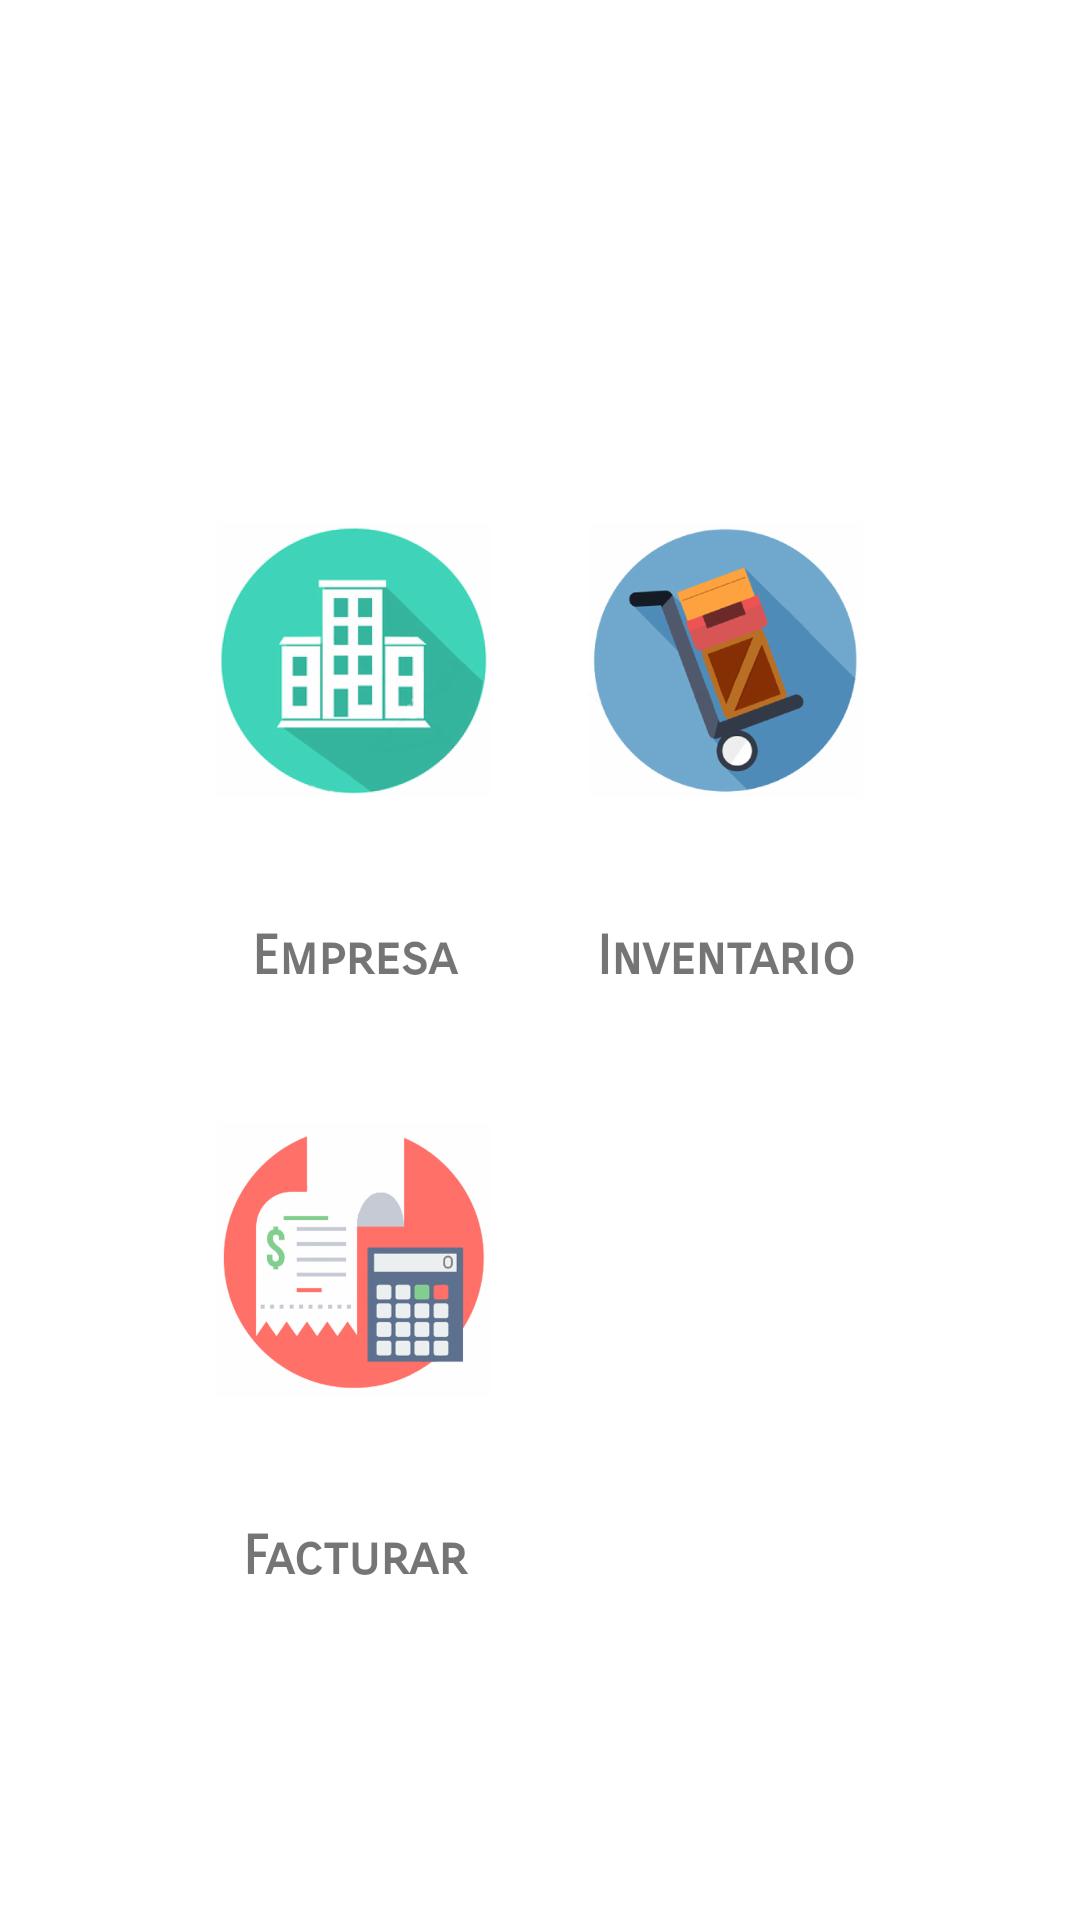

Named icons in this screenshot (1080*1920) and their bounding boxes, (x1, y1, x2, y2):
company: (221, 528, 487, 794)
inventory: (594, 529, 857, 792)
invoice: (224, 1136, 484, 1388)
